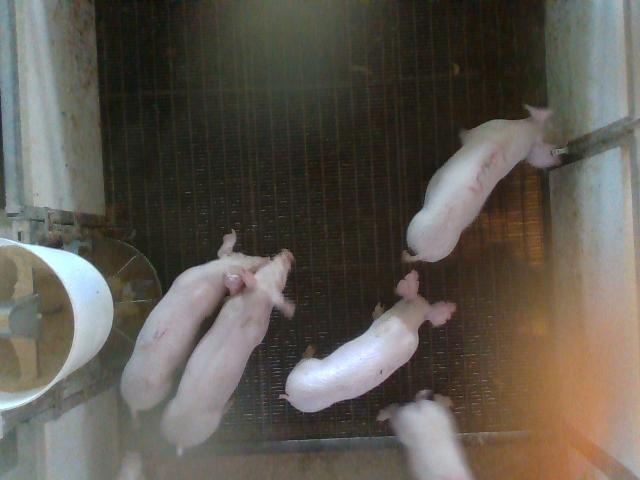pig-3: (404, 105, 562, 262)
